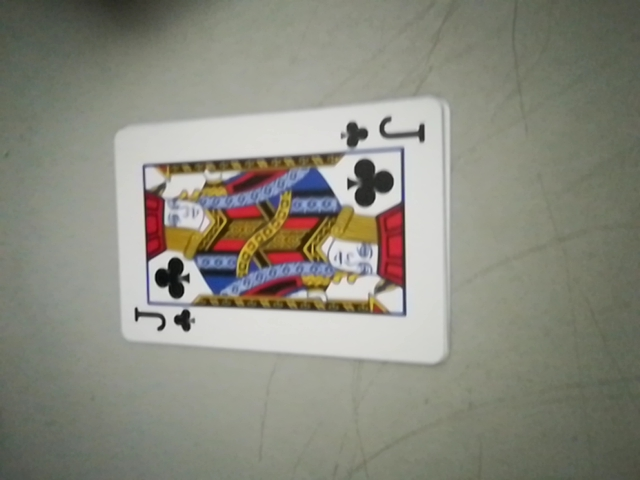mh j: (340, 111, 433, 151), (129, 302, 199, 339)
